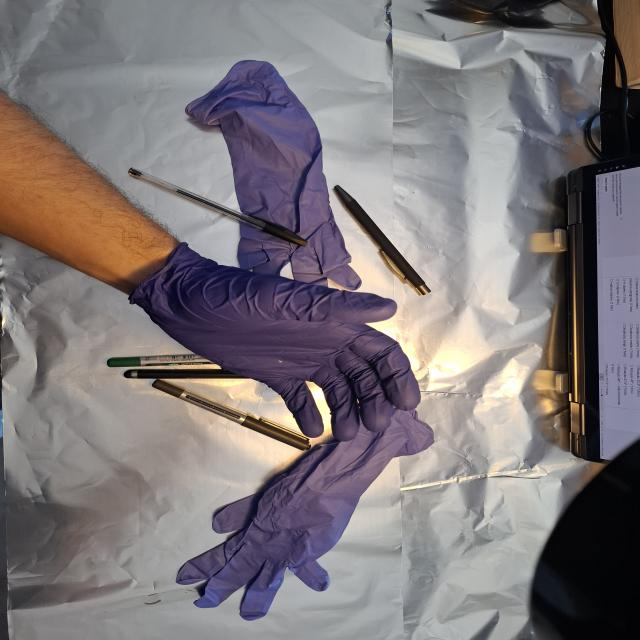glove_on: (121, 256, 425, 444)
